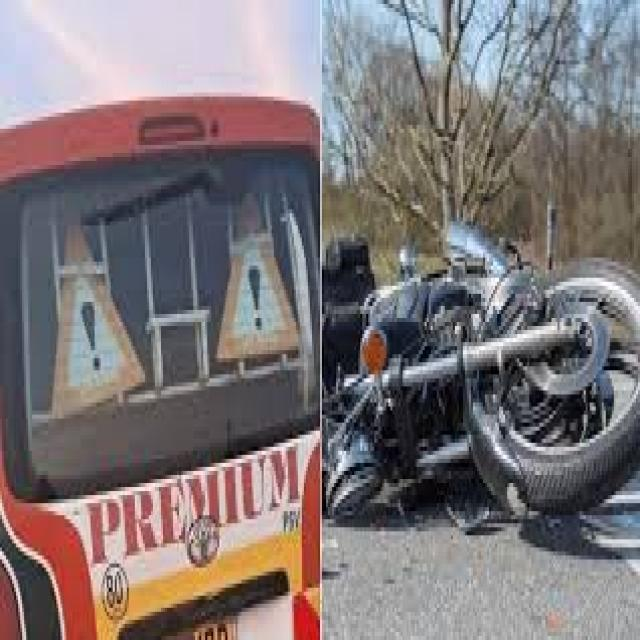bodaboda: (342, 119, 634, 580)
matatu: (12, 10, 325, 640)
